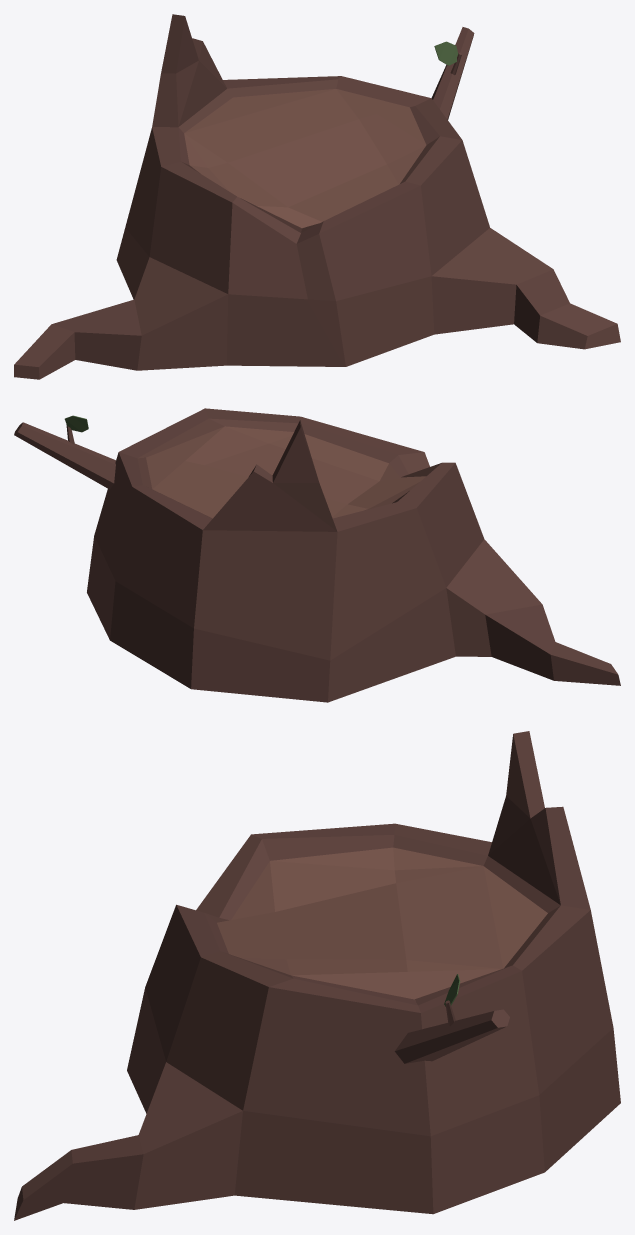
Rendered from stump.glb.
3 views of the same model, one above another, from view 1: azimuth 30°, elevation 25°; view 2: azimuth 150°, elevation 25°; view 3: azimuth 270°, elevation 25° (orthographic). The views are drawn at different scales.
Parts seen in each view (by area): view 1: TreeStump; view 2: TreeStump; view 3: TreeStump.
Part boxes in pixels (x1,y1,x2,y2): TreeStump: (14,14,620,379); TreeStump: (14,408,620,702); TreeStump: (14,731,620,1220).
Bounding box in the file's own units: 1.36 × 0.6216 × 1.03.
